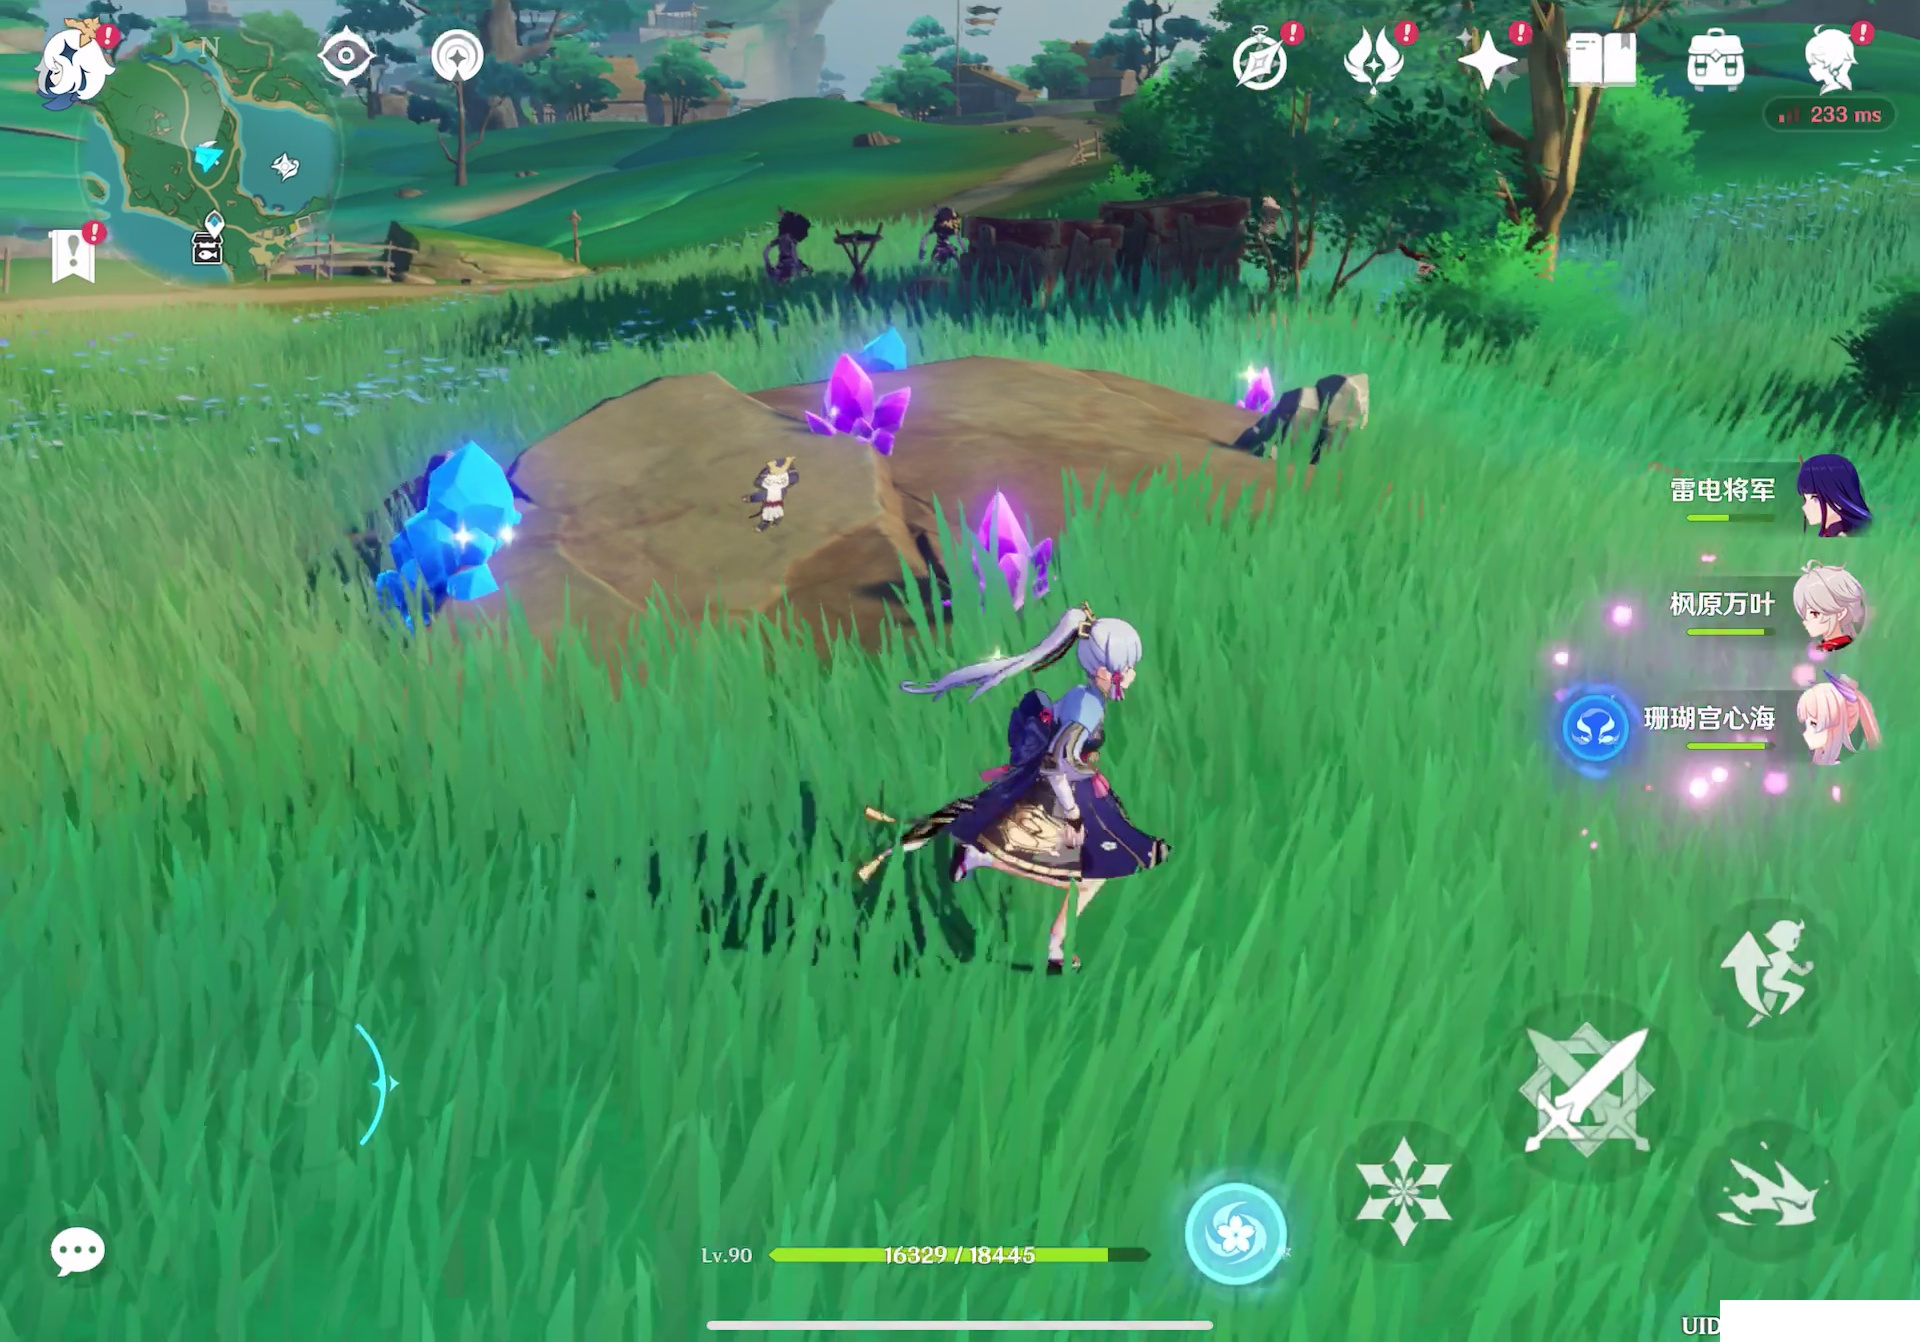丘丘人: (757, 201, 818, 290), (916, 200, 960, 268)
白铁矿石: (1263, 375, 1399, 476)
神里绫龟: (948, 621, 1177, 983)
紫矿石: (814, 360, 929, 476), (948, 493, 1064, 604), (1240, 363, 1274, 413)
蓝矿石: (397, 439, 543, 629), (859, 328, 916, 368)
